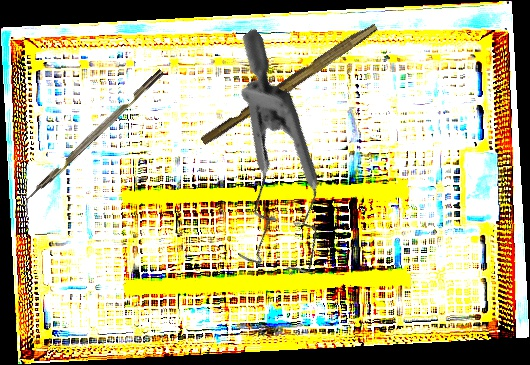Chopper: (17, 68, 171, 214)
Scalpel Handle: (199, 17, 379, 150)
Speculum: (133, 27, 396, 300)
